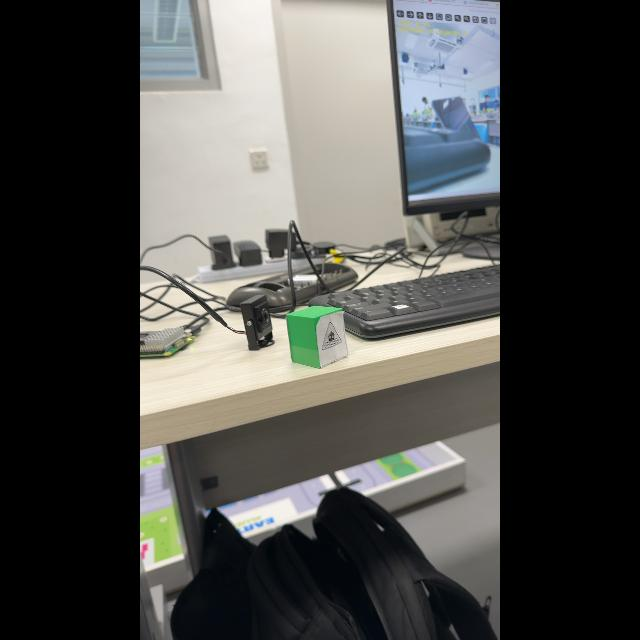Tsunami: (323, 322, 341, 349)
